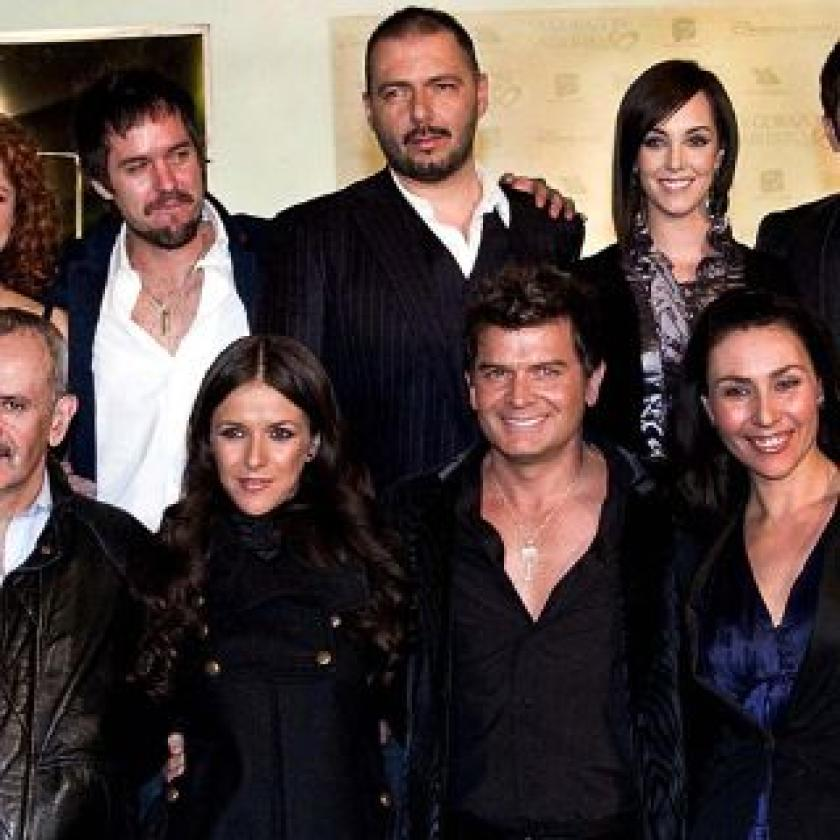Sin_casco: (450, 253, 617, 482), (682, 283, 824, 514), (199, 327, 345, 548), (346, 0, 498, 194), (75, 54, 215, 260), (602, 51, 750, 215)
